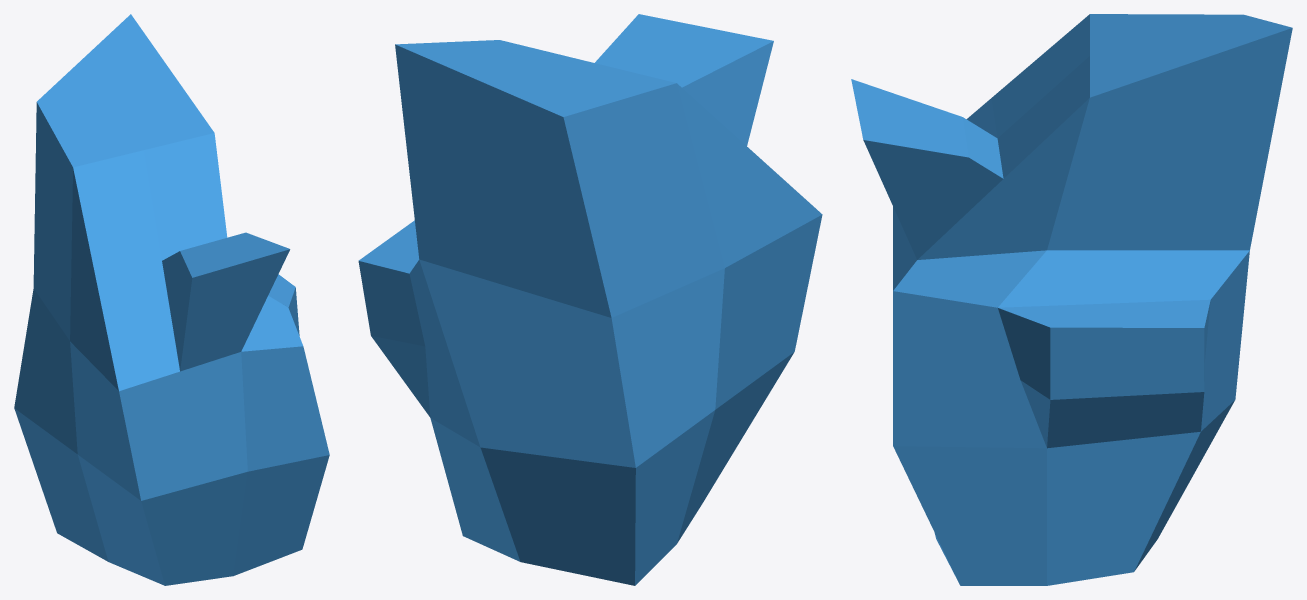
File: Iceberg 1.fbx
3 renders of one model, left to right at view 1: azimuth 30°, elevation 25°; view 2: azimuth 150°, elevation 25°; view 3: azimuth 270°, elevation 25°, orthographic. The views are drawn at different scales.
Parts seen in each view (by area): view 1: Cube; view 2: Cube; view 3: Cube.
Boxes of the visible parts, box(x1,y1,x2,y2) form: Cube: box(14, 14, 329, 585); Cube: box(358, 14, 822, 585); Cube: box(851, 14, 1292, 585).
Size of the model in its own units: 448 by 771 by 574.
